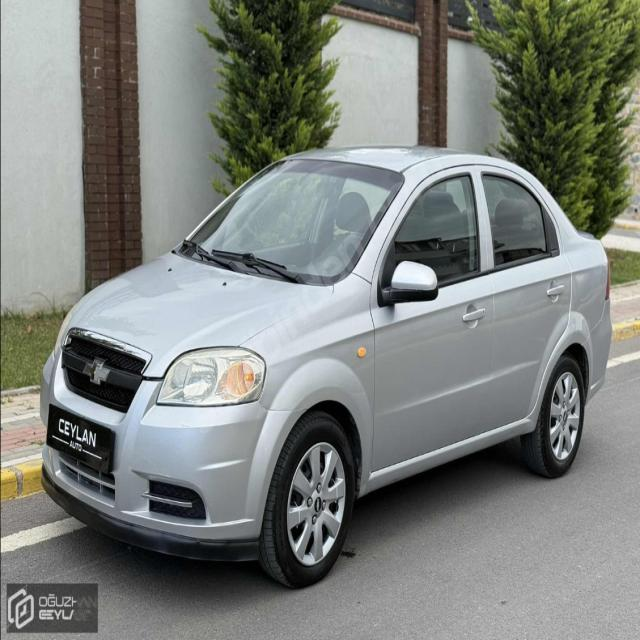chevrolet: (81, 356, 112, 390)
